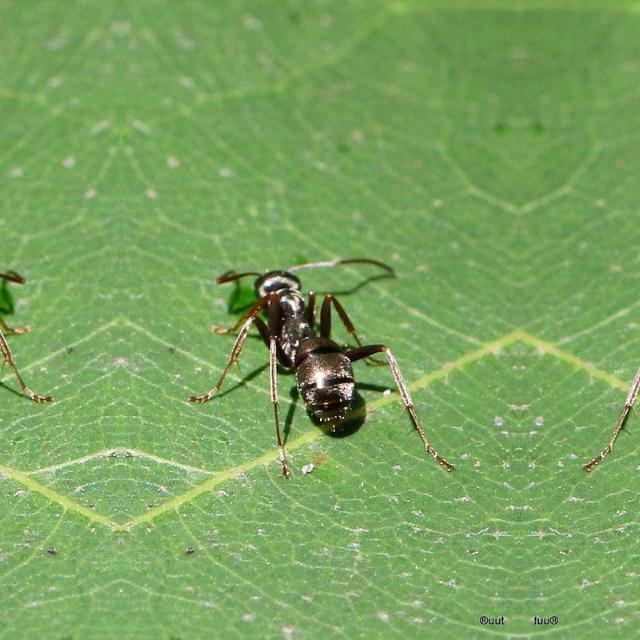Formica: (204, 227, 441, 471)
